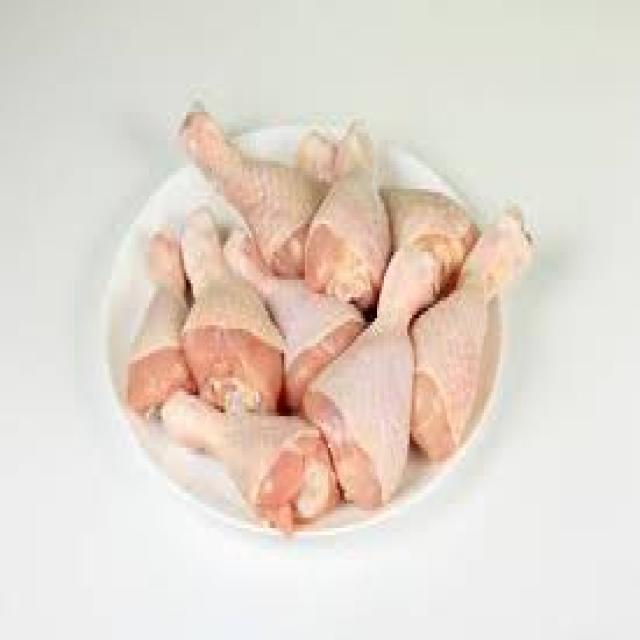leg: (417, 204, 547, 448), (327, 250, 433, 504), (180, 98, 330, 275), (164, 386, 328, 537), (218, 226, 362, 382), (176, 210, 280, 412), (317, 112, 394, 308), (126, 232, 188, 410)
